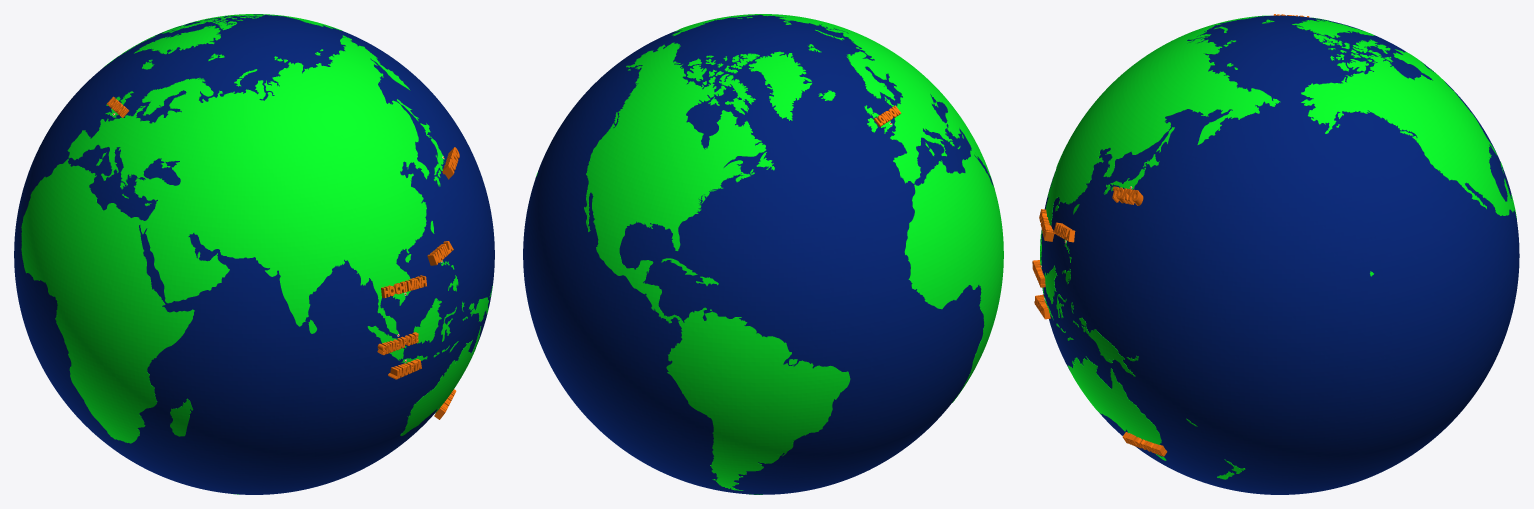
The model's file is globeAddressSans.glb.
3 renders of one model, left to right at view 1: azimuth 30°, elevation 25°; view 2: azimuth 150°, elevation 25°; view 3: azimuth 270°, elevation 25°, orthographic.
Parts seen in each view (by area): view 1: Object_2, Object_20, Object_16, Object_17, Object_12, Object_13, HochiText; view 2: Object_2, Object_19, Object_20, Object_17, Object_15; view 3: Object_2, Object_20, Object_19, Object_16, Object_14, Object_17, Object_13.
Part boxes in pixels (x1=…): Object_2: x1=14, y1=14, x2=494, y2=494; Object_20: x1=21, y1=35, x2=429, y2=443; Object_16: x1=400, y1=326, x2=481, y2=435; Object_17: x1=134, y1=25, x2=220, y2=54; Object_12: x1=170, y1=14, x2=456, y2=436; Object_13: x1=105, y1=91, x2=444, y2=343; HochiText: x1=381, y1=275, x2=426, y2=298; Object_2: x1=523, y1=15, x2=993, y2=494; Object_19: x1=584, y1=42, x2=850, y2=488; Object_20: x1=672, y1=14, x2=1003, y2=402; Object_17: x1=748, y1=51, x2=811, y2=120; Object_15: x1=719, y1=74, x2=755, y2=114; Object_2: x1=1040, y1=15, x2=1519, y2=494; Object_20: x1=1040, y1=15, x2=1280, y2=265; Object_19: x1=1301, y1=49, x2=1516, y2=219; Object_16: x1=1068, y1=356, x2=1161, y2=444; Object_14: x1=1079, y1=33, x2=1342, y2=376; Object_17: x1=1292, y1=19, x2=1374, y2=37; Object_13: x1=1044, y1=167, x2=1145, y2=303.
Size of the model in its own units: 2 by 2 by 2.03.
